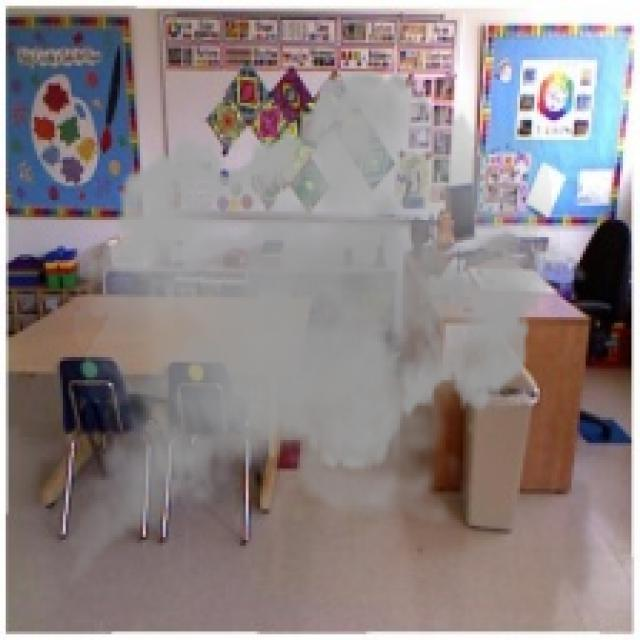Smoke: (54, 55, 589, 614)
